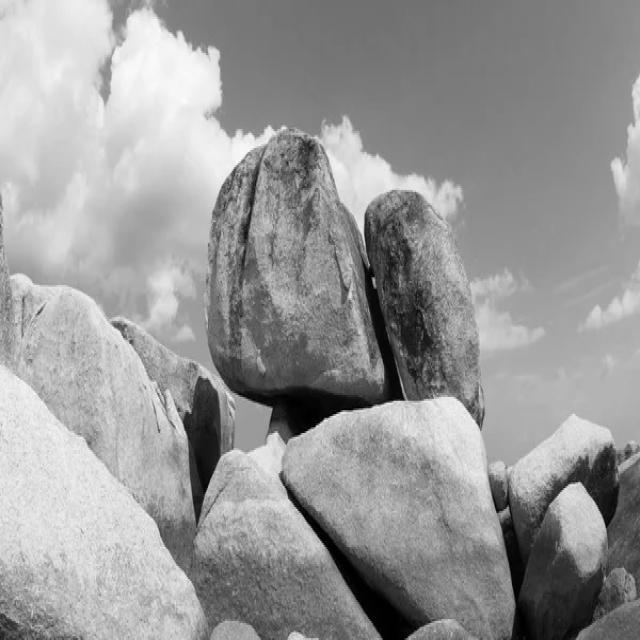Stone: (0, 365, 207, 640), (283, 399, 516, 640), (10, 274, 196, 570), (205, 129, 396, 405), (191, 454, 380, 640), (366, 190, 485, 426), (112, 319, 235, 518), (510, 414, 621, 563), (521, 482, 608, 639)
